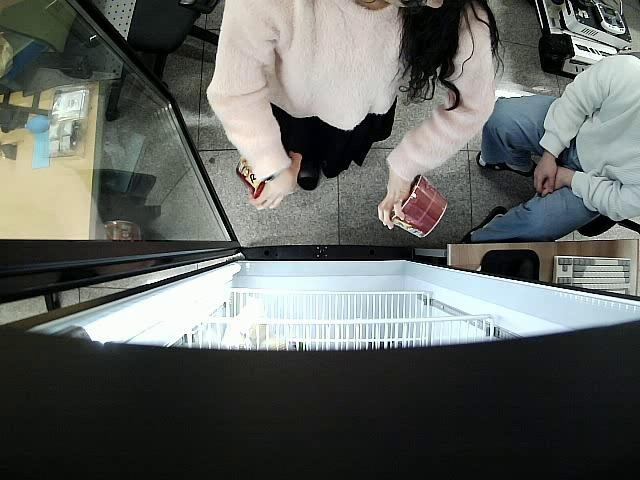05_nuguri_L: (388, 170, 452, 240), (229, 153, 280, 204)
